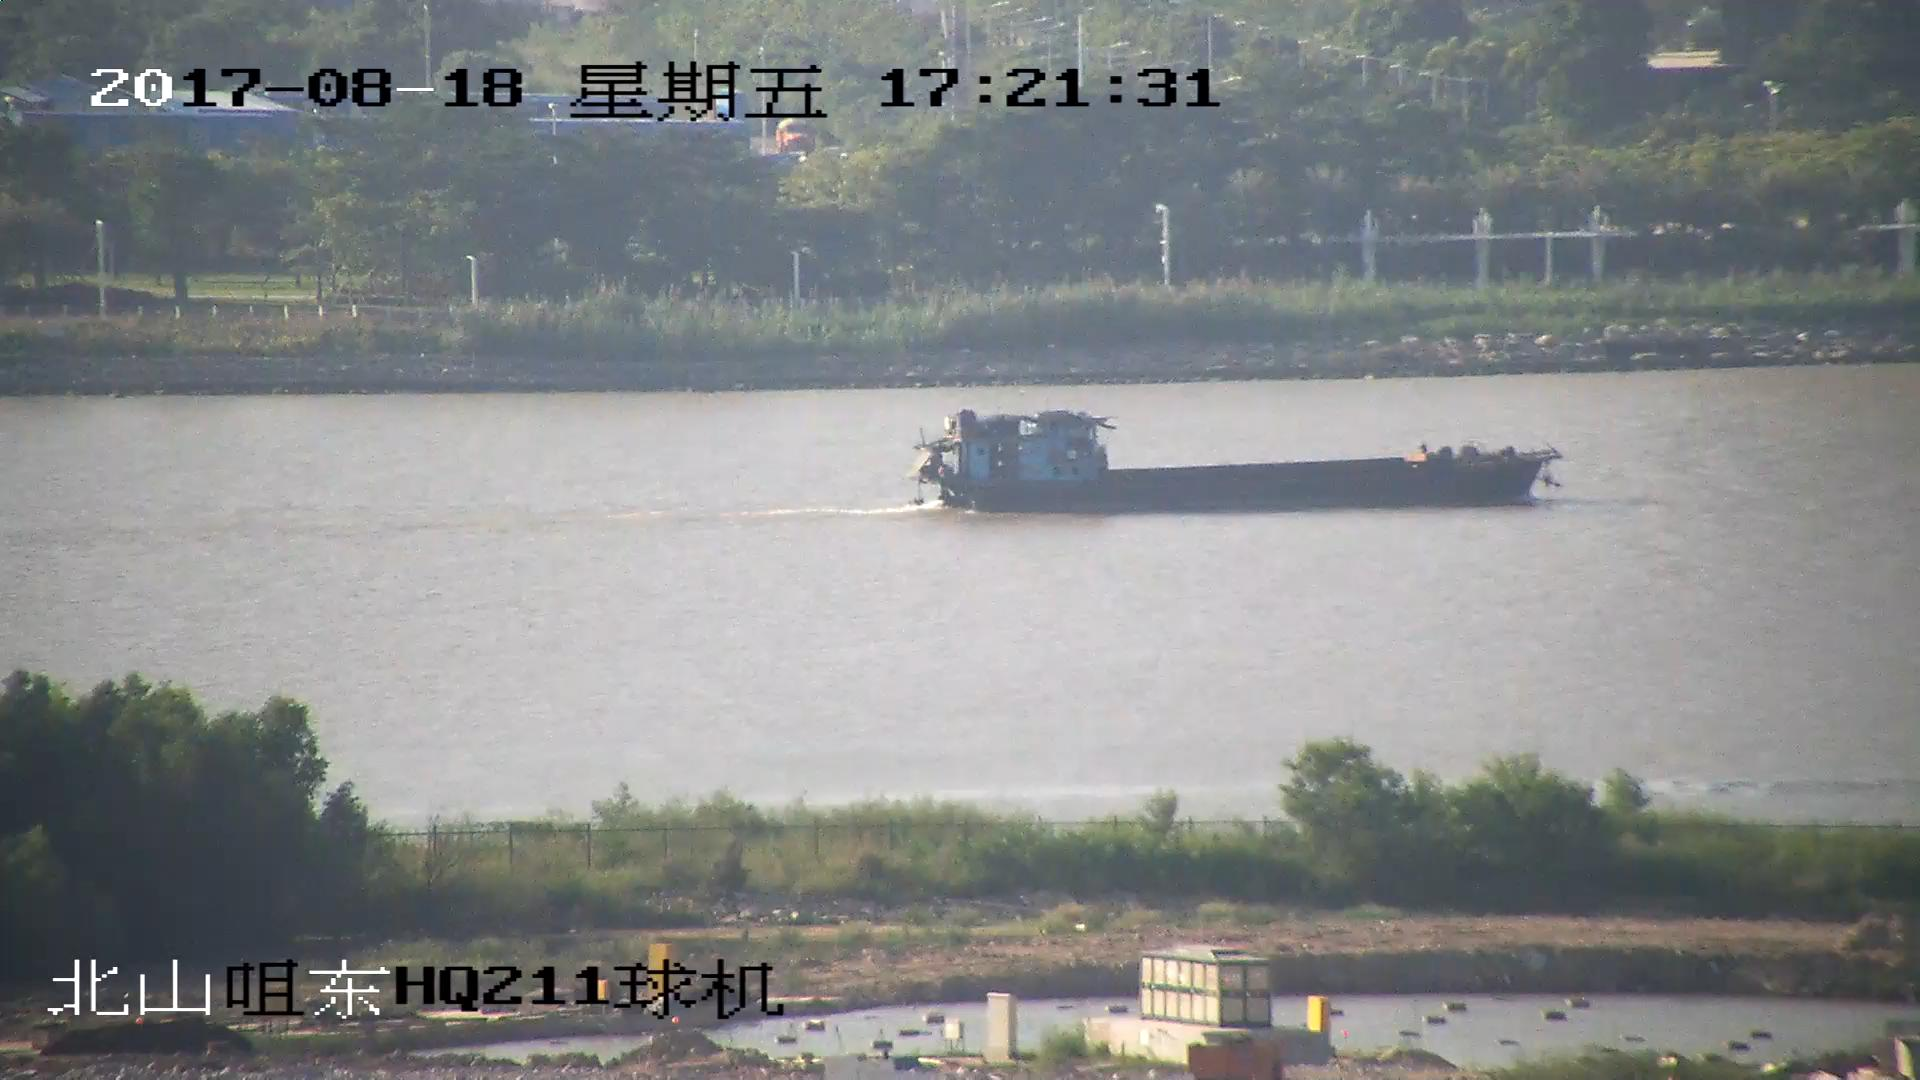bulk cargo carrier: (916, 414, 1559, 510)
